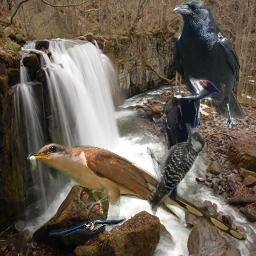Crow: (173, 0, 245, 128)
Cuckoo: (23, 142, 247, 242)
Swallow: (49, 216, 126, 236)
Woodpecker: (137, 75, 222, 201), (147, 121, 205, 215)
